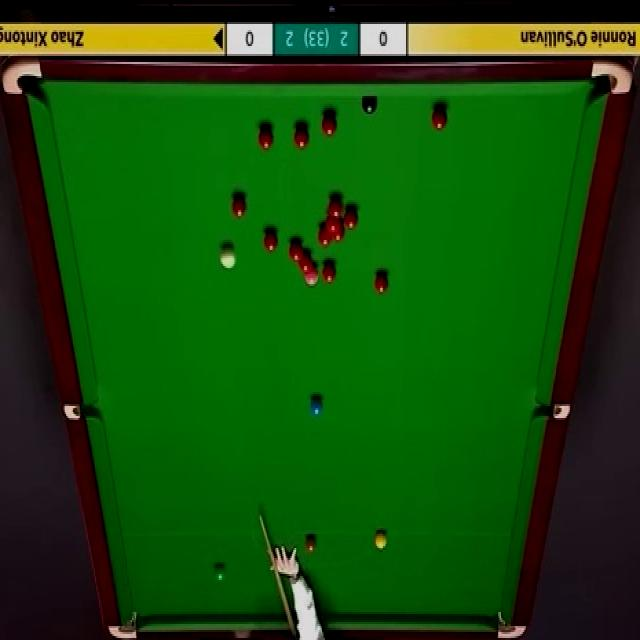black-ball: (361, 95, 378, 114)
blue-ball: (310, 395, 324, 420)
brown-ball: (305, 534, 317, 552)
green-ball: (213, 562, 228, 582)
pink-ball: (304, 264, 317, 286)
red-ball: (230, 192, 248, 221), (431, 106, 448, 131), (258, 125, 274, 151), (294, 124, 309, 149), (264, 228, 279, 253), (344, 208, 359, 232), (322, 112, 336, 137), (318, 222, 332, 246), (329, 195, 343, 218), (289, 239, 303, 262), (374, 272, 388, 294), (298, 252, 312, 274), (322, 262, 336, 281), (326, 210, 339, 230), (332, 222, 345, 242)
white-ball: (220, 244, 235, 271)
yellow-ball: (375, 531, 388, 551)
